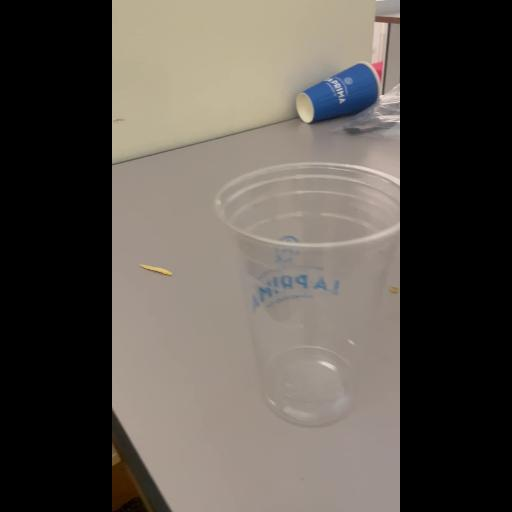lp_paper_cup: (296, 58, 384, 124)
lp_plastic_cup: (214, 157, 400, 429)
